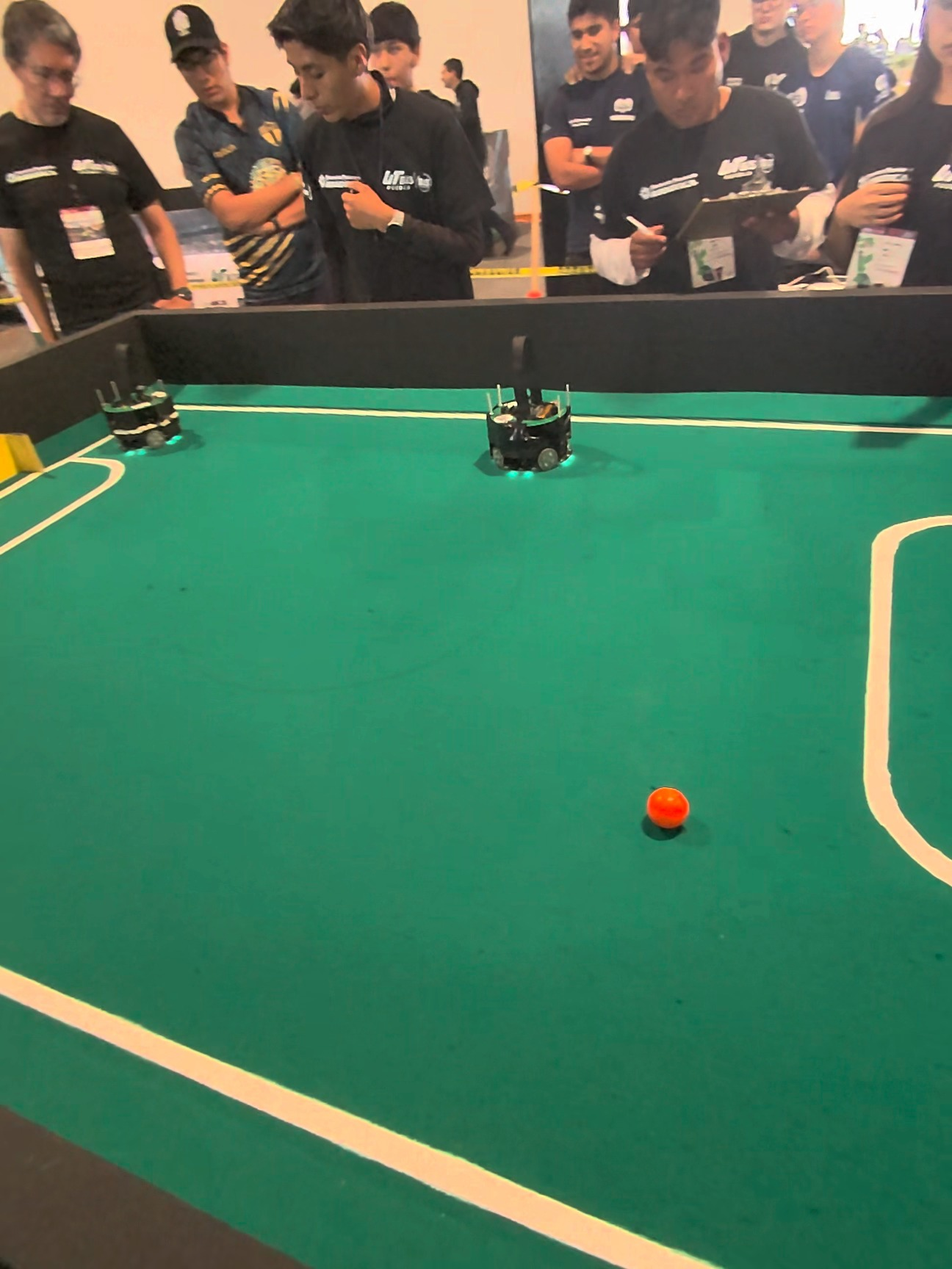Robot: (86, 307, 194, 473), (484, 330, 583, 495)
pelota: (647, 794, 692, 834)
